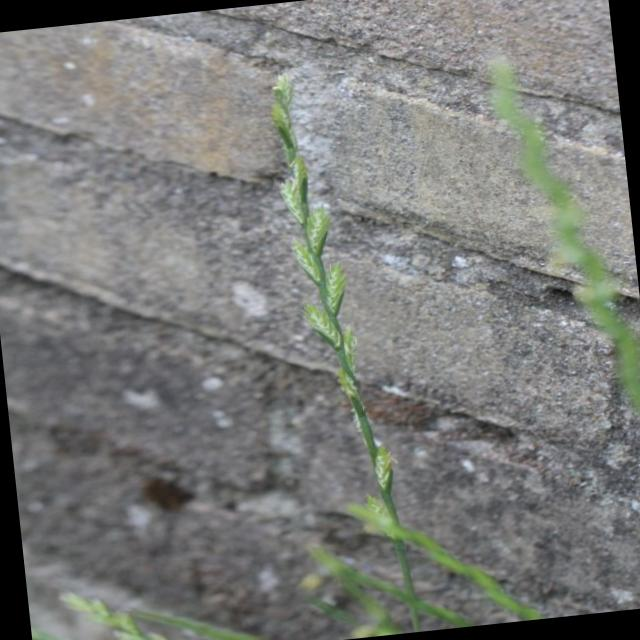Lolium: (255, 49, 542, 640)
